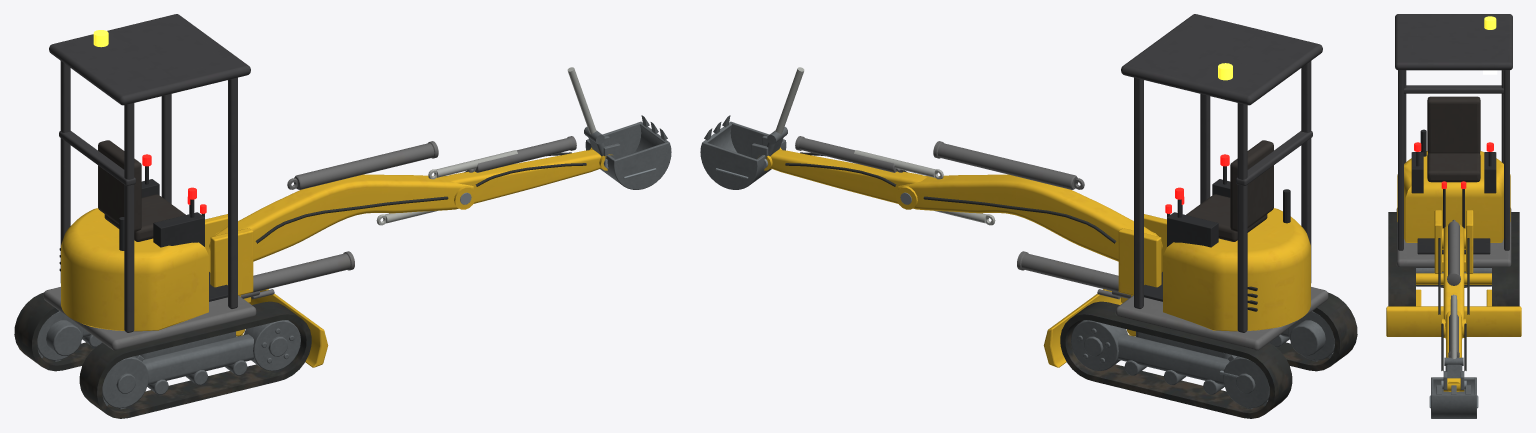
File: minidigger_used.glb
3 views of the same model, side by side, from view 1: azimuth 30°, elevation 25°; view 2: azimuth 150°, elevation 25°; view 3: azimuth 270°, elevation 25° (orthographic). The views are drawn at different scales.
Parts seen in each view (by area): view 1: Canopy, HouseBody, TrackBand, BoomBody, Undercarriage, StickBody, BucketBody, Seat, Deck, BoomMount, StickRam, Controls (+8 smaller); view 2: Canopy, HouseBody, TrackBand, BoomBody, Undercarriage, StickBody, BucketBody, Seat, Deck, BoomMount, StickRam, Controls (+8 smaller); view 3: Canopy, HouseBody, Seat, BladeBody, TrackBand, Controls, BucketBody, Deck, BoomBody, BoomMount, StickRam, StickBody (+12 smaller).
Part boxes in pixels (x1,y1,x2,y2): Canopy: (49, 14, 250, 332); HouseBody: (61, 208, 208, 331); TrackBand: (14, 292, 311, 418); BoomBody: (209, 174, 475, 261); Undercarriage: (46, 320, 253, 394); StickBody: (445, 147, 612, 203); BucketBody: (585, 121, 671, 189); Seat: (98, 140, 185, 241); Deck: (43, 287, 256, 350); BoomMount: (205, 214, 253, 296); StickRam: (287, 141, 438, 189); Controls: (141, 166, 227, 301); Canopy: (1121, 14, 1322, 332); HouseBody: (1163, 208, 1310, 331); TrackBand: (1060, 292, 1357, 418); BoomBody: (896, 174, 1162, 261); Undercarriage: (1118, 320, 1325, 394); StickBody: (764, 147, 926, 203); BucketBody: (700, 121, 786, 189); Seat: (1186, 140, 1273, 241); Deck: (1115, 287, 1328, 350); BoomMount: (1118, 214, 1166, 296); StickRam: (933, 141, 1084, 189); Controls: (1144, 166, 1230, 301); Canopy: (1395, 14, 1512, 250); HouseBody: (1397, 151, 1510, 242); Seat: (1427, 96, 1480, 182); BladeBody: (1386, 273, 1521, 336); TrackBand: (1388, 212, 1519, 306); Controls: (1411, 152, 1496, 254); BucketBody: (1431, 371, 1476, 418); Deck: (1396, 208, 1511, 267); BoomBody: (1442, 224, 1465, 338); BoomMount: (1434, 210, 1473, 273); StickRam: (1447, 220, 1460, 285); StickBody: (1443, 311, 1464, 391).
Bounding box in the file's own units: 4.59 × 2.4 × 1.12.
27 materials, 22 textured.
